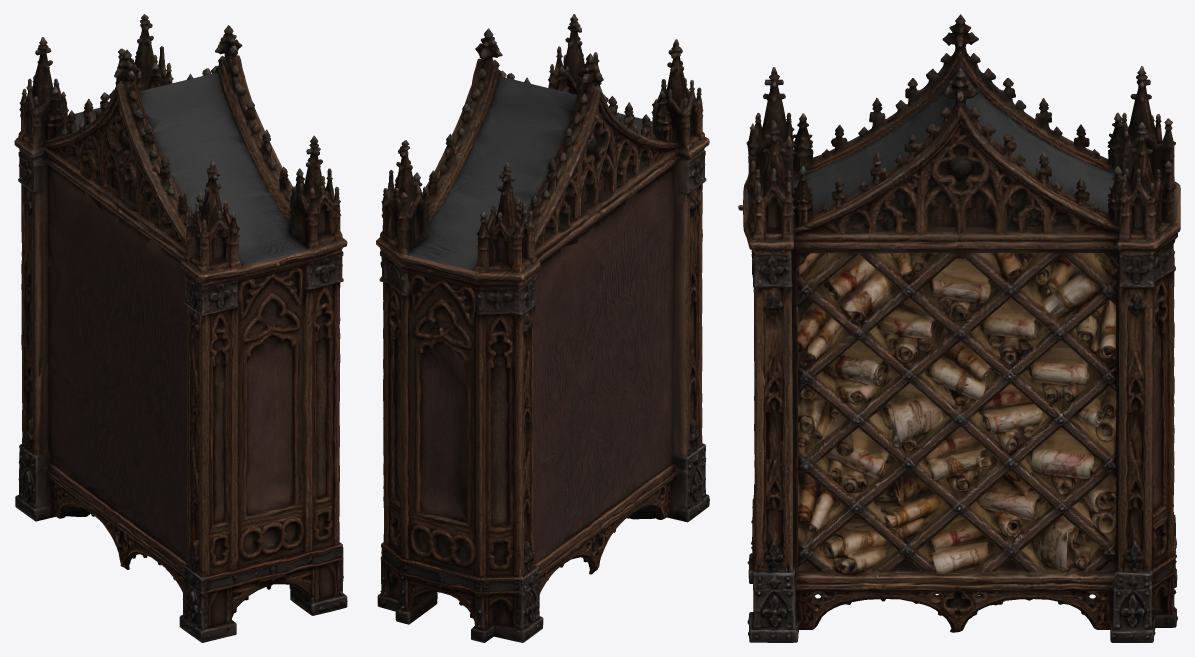
Rendered from raw_shelf_scrolls.glb.
3 views of the same model, side by side, from view 1: azimuth 30°, elevation 25°; view 2: azimuth 150°, elevation 25°; view 3: azimuth 270°, elevation 25° (orthographic). The views are drawn at different scales.
Visible parts, largest first — view 1: shelf_scrolls; view 2: shelf_scrolls; view 3: shelf_scrolls.
Boxes of the visible parts, left/top/right/bottom form: shelf_scrolls: left=14, top=14, right=347, bottom=642; shelf_scrolls: left=376, top=14, right=709, bottom=642; shelf_scrolls: left=738, top=14, right=1180, bottom=642.
Size of the model in its own units: 0.3015 by 1 by 0.7119.
1 material, 1 textured.
